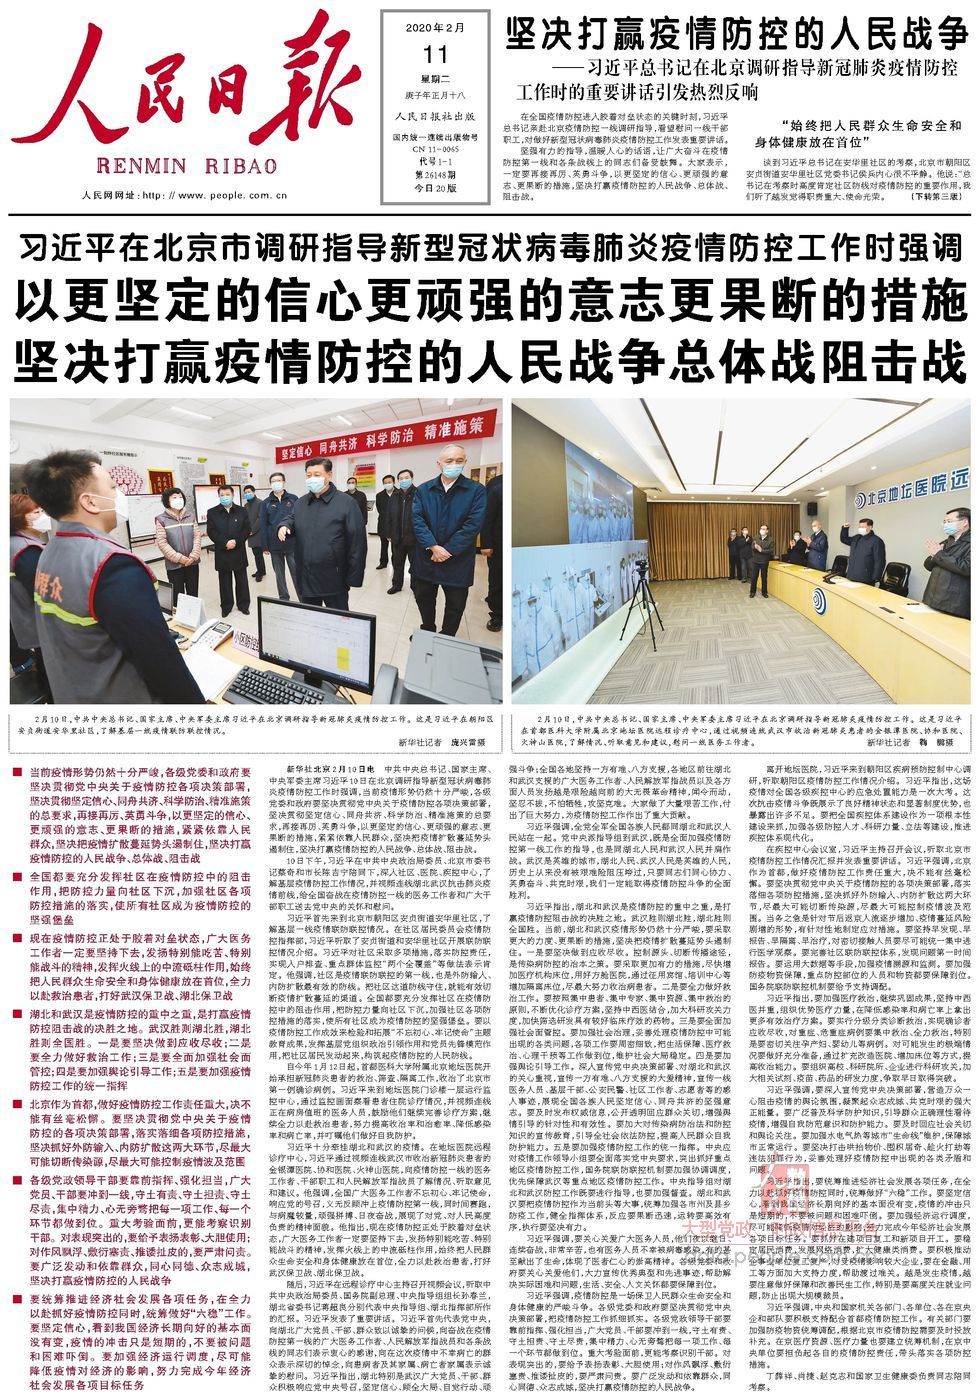pic: (5, 391, 506, 710), (508, 389, 975, 710)
